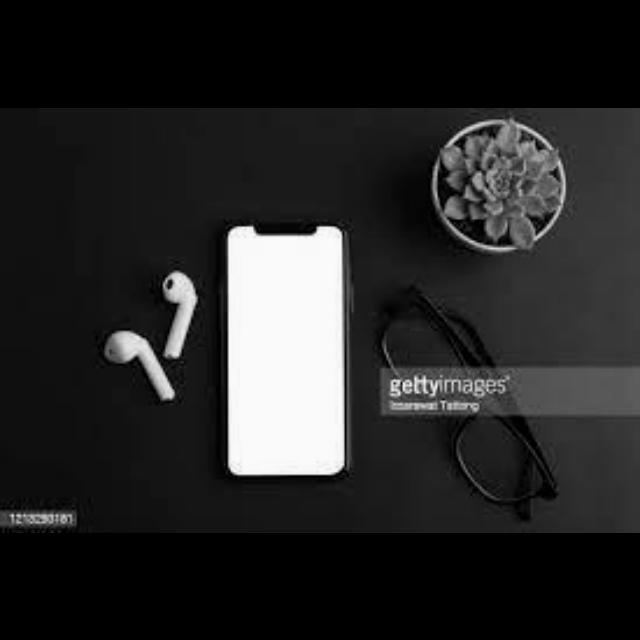fake: (217, 230, 347, 482)
